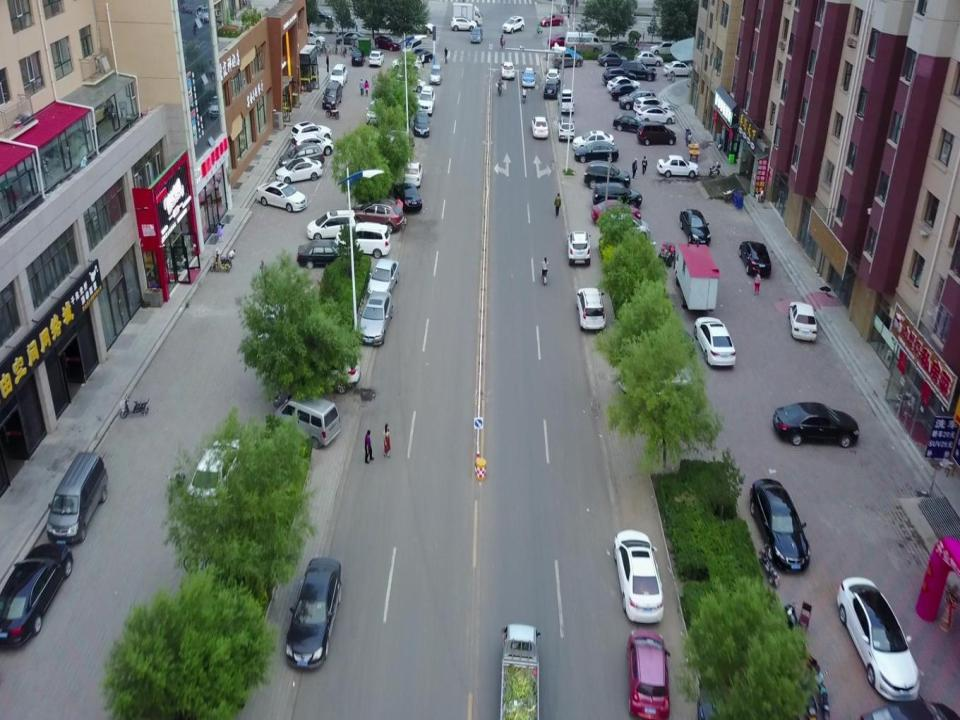car: (836, 576, 920, 700), (0, 543, 73, 633), (285, 556, 342, 670), (749, 478, 811, 574), (614, 529, 665, 624), (186, 436, 245, 516), (626, 628, 671, 720), (772, 401, 860, 448), (290, 342, 362, 393), (617, 355, 692, 400), (697, 687, 785, 720), (694, 316, 736, 367), (334, 222, 390, 258), (359, 291, 393, 346), (352, 197, 404, 232), (637, 326, 695, 357), (306, 209, 358, 242), (256, 180, 307, 212), (296, 241, 354, 269), (601, 214, 651, 242), (275, 157, 324, 185), (590, 199, 642, 225), (576, 286, 606, 330), (592, 182, 642, 208), (278, 142, 324, 170), (584, 161, 631, 188), (788, 301, 818, 342), (739, 240, 772, 277), (678, 208, 711, 245), (368, 259, 399, 298), (289, 133, 334, 157), (289, 120, 332, 145), (636, 120, 676, 146), (657, 155, 700, 177), (618, 59, 657, 83), (575, 141, 619, 162), (567, 231, 592, 267), (636, 105, 676, 126), (378, 129, 414, 152), (393, 182, 422, 209), (618, 90, 657, 110), (613, 113, 648, 133), (573, 131, 614, 148), (601, 67, 637, 85), (633, 97, 672, 113), (607, 76, 641, 94), (394, 75, 426, 94), (416, 85, 436, 115), (391, 56, 421, 75), (402, 161, 424, 186), (610, 84, 644, 100), (598, 51, 629, 68), (649, 40, 681, 56), (404, 18, 435, 34), (664, 61, 693, 78), (412, 111, 430, 137), (553, 52, 582, 68), (366, 99, 383, 126), (634, 51, 664, 66), (373, 12, 401, 28), (374, 34, 400, 51), (543, 77, 563, 99), (335, 31, 366, 45), (558, 117, 575, 142), (558, 88, 575, 113), (531, 116, 549, 139), (502, 16, 525, 34), (450, 17, 478, 31), (408, 49, 433, 64), (609, 42, 639, 54), (539, 12, 564, 26), (548, 34, 573, 48), (308, 8, 332, 22), (521, 67, 536, 87), (429, 64, 443, 85), (500, 61, 516, 79), (368, 50, 384, 67), (307, 30, 325, 45), (351, 49, 366, 66), (469, 26, 483, 44), (546, 68, 562, 83)
truck: (499, 624, 540, 720), (452, 2, 484, 24)
van: (46, 451, 109, 544), (273, 392, 340, 450), (564, 31, 603, 56), (322, 80, 343, 110), (330, 63, 348, 89), (402, 40, 423, 54)
